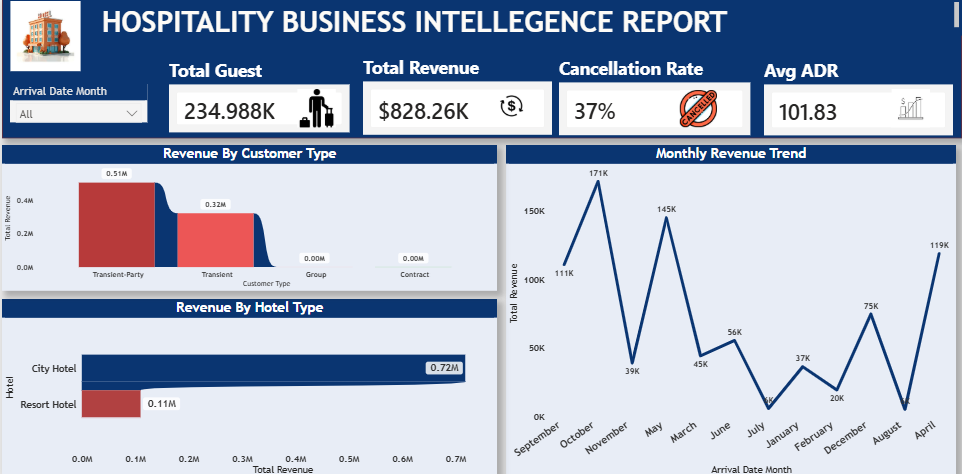

The page's visual inventory and layout, read from the dashboard file:
{"tool":"powerbi","page":{"name":"Executive Report","canvas":[1600,800],"ordinal":0},"visuals":[{"type":"shape","box":[0,0,1600,232.3],"z":0},{"type":"textbox","box":[144.9,0,1455.1,61.4],"z":1000},{"type":"image","box":[0,3.1,144.9,116.5],"z":2000},{"type":"cardVisual","title":"Total Guest","fields":{"Data":["hotel_bookings.Total Guests"]},"box":[273.5,98.1,311.4,129],"z":3000},{"type":"image","box":[462.8,149.7,122.2,63.7],"z":4000},{"type":"cardVisual","title":"Total Revenue","fields":{"Data":["hotel_bookings.Total Revenue"]},"box":[596.9,92.9,326,138.6],"z":5000},{"type":"cardVisual","title":"Cancellation Rate","fields":{"Data":["hotel_bookings.Cancellation Rate"]},"box":[922.8,94.5,329.1,137],"z":6000},{"type":"cardVisual","title":"Avg ADR","fields":{"Data":["hotel_bookings.Average ADR"]},"box":[1264.5,98.1,325.2,134.2],"z":7000},{"type":"image","box":[788,151.4,122.2,53.3],"z":8000},{"type":"image","box":[1087.3,151.4,148,61.9],"z":9000},{"type":"image","box":[1441.7,149.7,146.2,63.7],"z":10000},{"type":"lineChart","title":"Monthly Revenue Trend","fields":{"Category":["hotel_bookings.Arrival Date Month "],"Y":["hotel_bookings.Total Revenue"]},"box":[839.4,244.1,749.6,555.9],"z":11000},{"type":"barChart","title":"Revenue   By Hotel Type","fields":{"Category":["hotel_bookings.Hotel"],"Y":["hotel_bookings.Total Revenue"]},"box":[0,500.8,825.2,299.2],"z":12000},{"type":"slicer","title":"Arrival Date Month","fields":{"Values":["hotel_bookings.Arrival Date Month"]},"box":[13.8,141.1,228.8,63.7],"z":13000},{"type":"columnChart","title":"Revenue  By Customer Type","fields":{"Category":["hotel_bookings.Customer Type"],"Y":["hotel_bookings.Total Revenue"]},"box":[0,244.1,825.2,242.5],"z":14000}]}

Visuals, with their boxes in screenshot pixels (x1, y1, x2, y2), scaled from the page's 1600x800 canvas onto the 962x474 screenshot:
shape: x1=0, y1=0, x2=961, y2=138
textbox: x1=87, y1=0, x2=961, y2=36
image: x1=0, y1=2, x2=87, y2=71
"Total Guest" cardVisual: x1=164, y1=58, x2=352, y2=135
image: x1=278, y1=89, x2=352, y2=126
"Total Revenue" cardVisual: x1=359, y1=55, x2=555, y2=137
"Cancellation Rate" cardVisual: x1=555, y1=56, x2=753, y2=137
"Avg ADR" cardVisual: x1=760, y1=58, x2=956, y2=138
image: x1=474, y1=90, x2=547, y2=121
image: x1=654, y1=90, x2=743, y2=126
image: x1=867, y1=89, x2=955, y2=126
"Monthly Revenue Trend" lineChart: x1=505, y1=145, x2=955, y2=473
"Revenue   By Hotel Type" barChart: x1=0, y1=297, x2=496, y2=473
"Arrival Date Month" slicer: x1=8, y1=84, x2=146, y2=121
"Revenue  By Customer Type" columnChart: x1=0, y1=145, x2=496, y2=288
